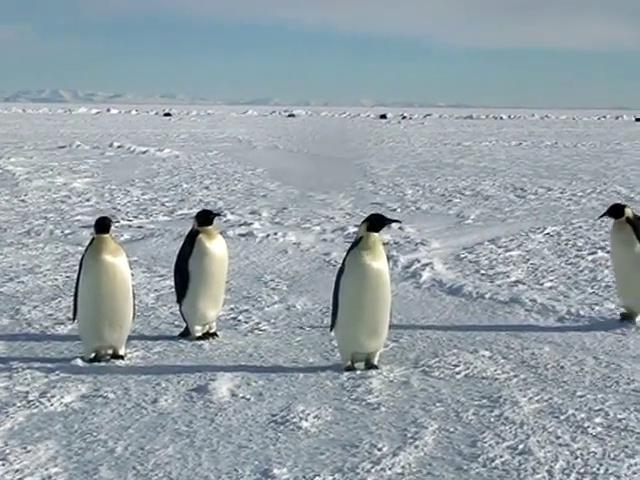animal: (331, 215, 402, 372)
